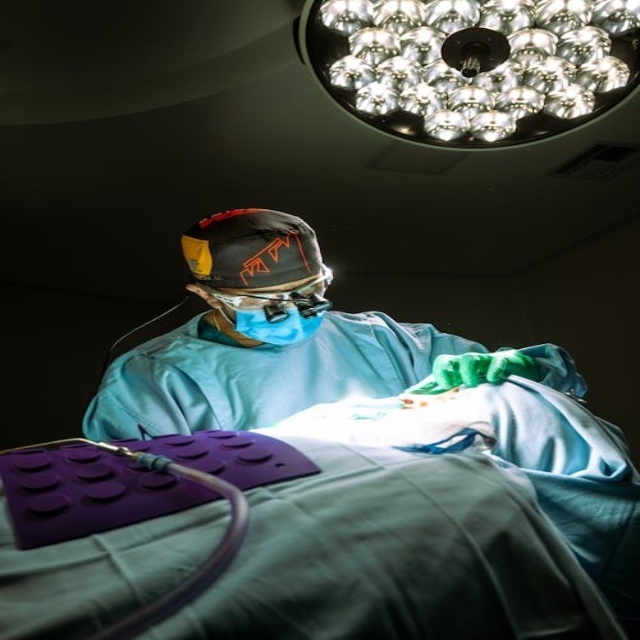Gafas: (199, 268, 333, 311)
Guantes: (404, 349, 541, 395)
Mascara: (211, 286, 328, 347)
